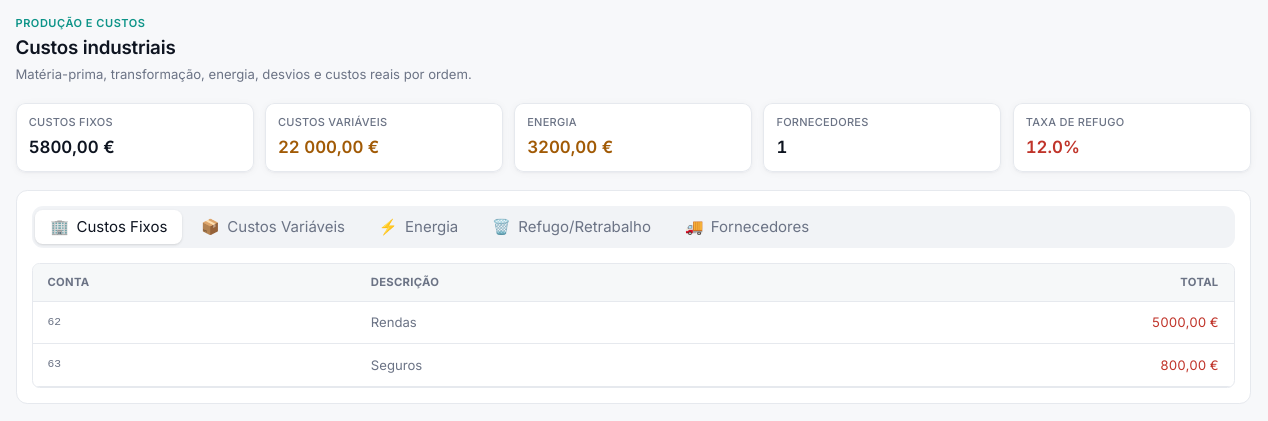
IndustrialCostsPage › switches to the waste tab and shows waste metrics
expect the text "Rendas" is shown: met, box [356,302,798,344]
What coordinates should you click on to do the following:
click the button "🗑️ Refugo/Retrabalho"
I would click on:
 (571, 227)
Its box is [477,210,666,244].
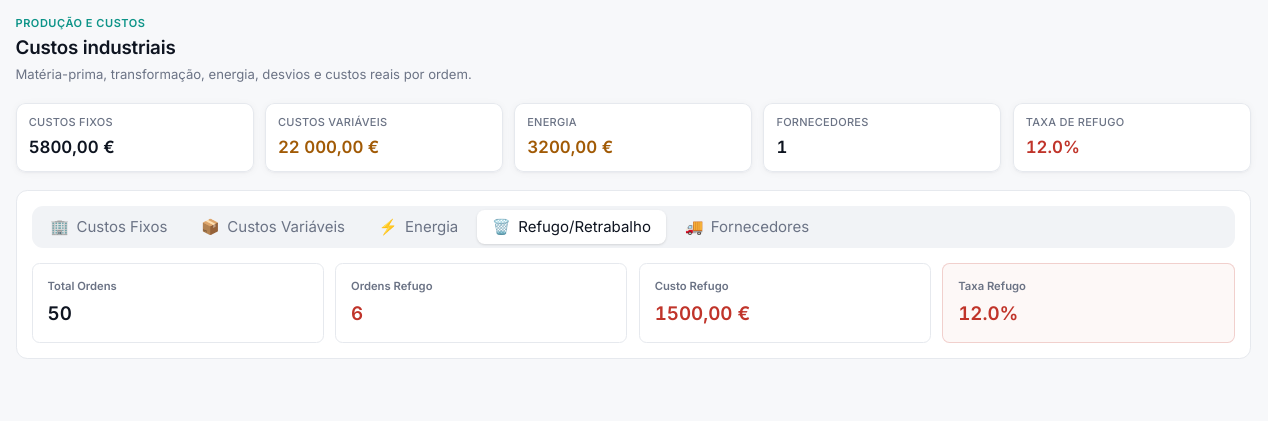
expect the text "Total Ordens" is shown: met, box [48,278,117,292]
expect the text "Ordens Refugo" is shown: met, box [351,278,432,292]
expect the text "Custo Refugo" is shown: met, box [655,278,728,292]
